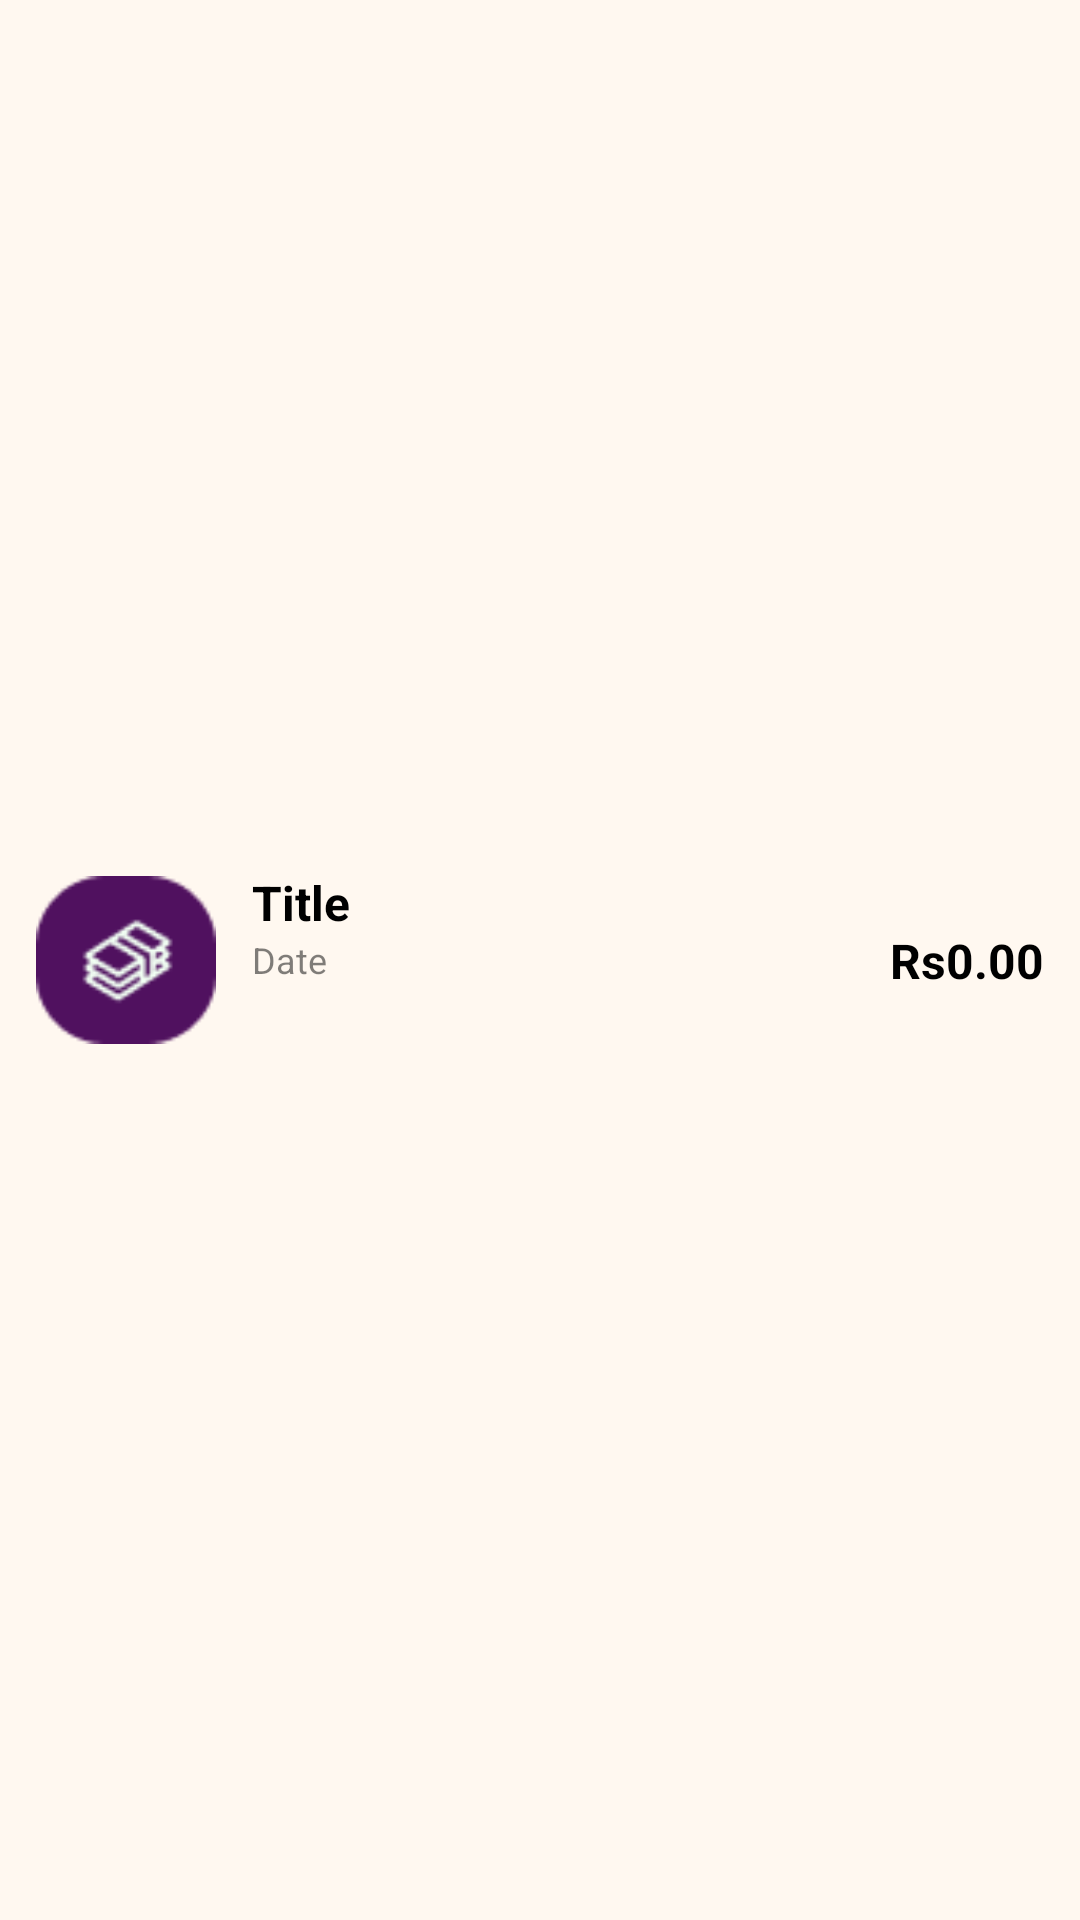

Screen size 1080×1920. Icon name, then its center in pixels as (x,y):
salary: (126,960)
